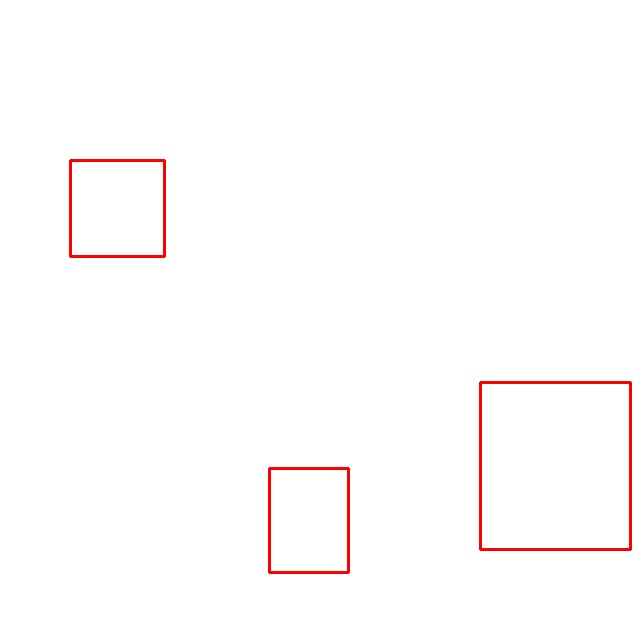weapon: (480, 382, 631, 549), (71, 160, 165, 257), (269, 469, 349, 572)
